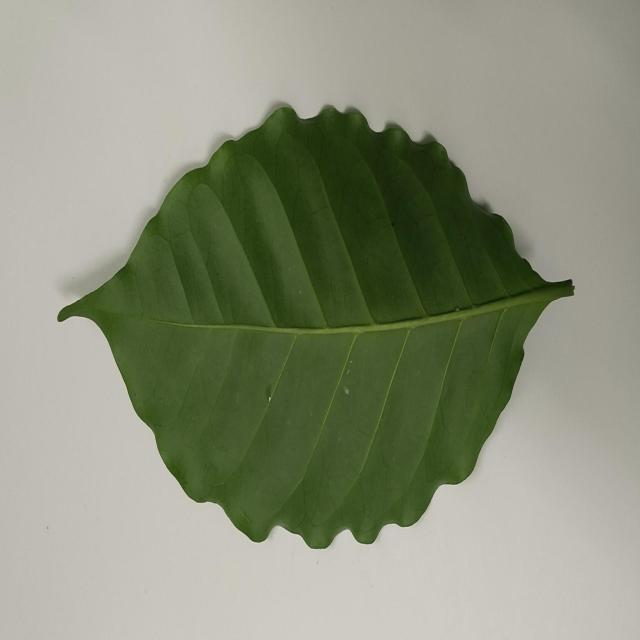Sanas: (56, 104, 575, 552)
